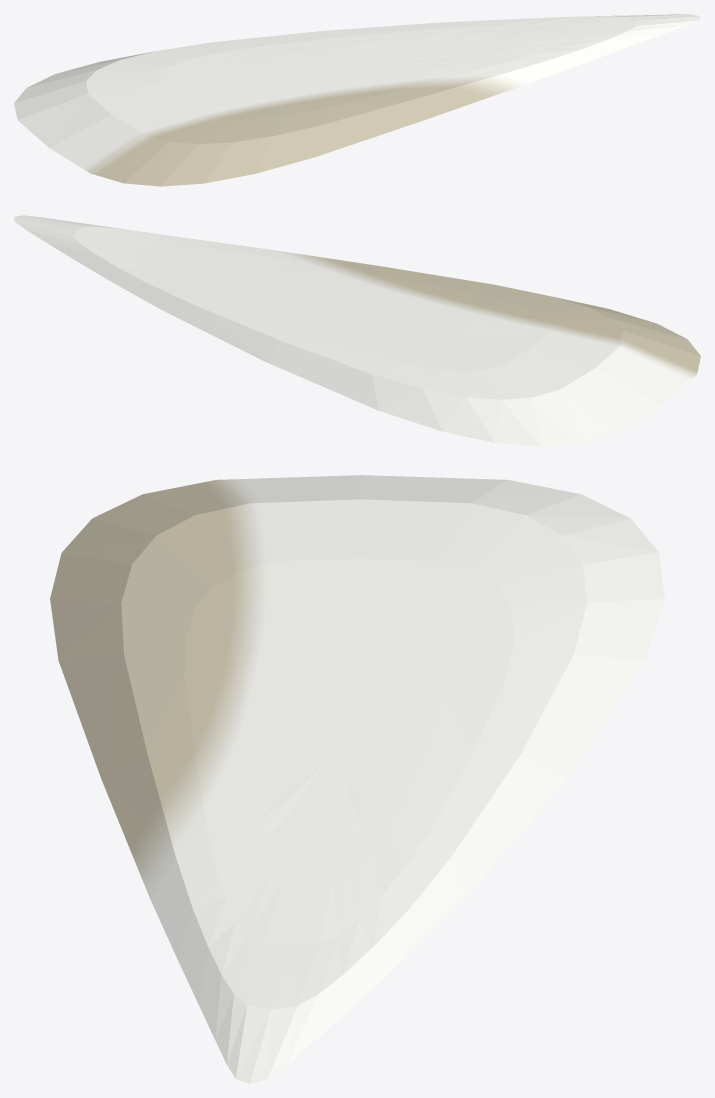
Rendered from animal_swan_wing.obj.
3 renders of one model, top to bottom at view 1: azimuth 30°, elevation 25°; view 2: azimuth 150°, elevation 25°; view 3: azimuth 270°, elevation 25°, orthographic. The views are drawn at different scales.
Parts seen in each view (by area): view 1: animal_swan_wing; view 2: animal_swan_wing; view 3: animal_swan_wing.
Boxes of the visible parts, bbox=[...] form: animal_swan_wing: bbox=[14, 14, 700, 186]; animal_swan_wing: bbox=[14, 215, 700, 446]; animal_swan_wing: bbox=[50, 475, 664, 1083].
Size of the model in its own units: 0.5491 by 0.0324 by 0.2344.
